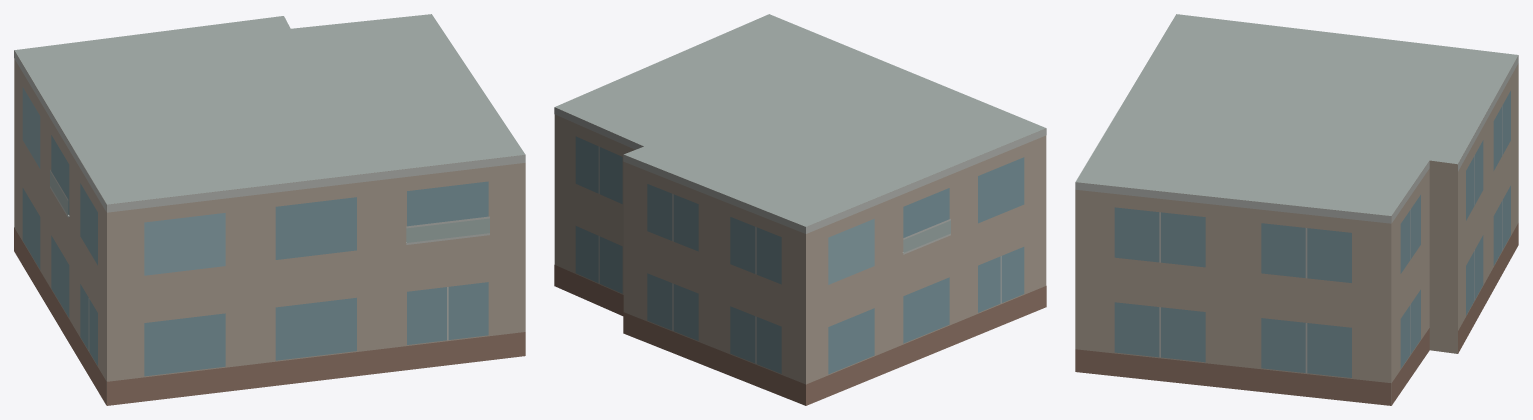
Rendered from survey-upis-32909372.glb.
The picture shows the model from 3 angles, left to right: view 1: azimuth 30°, elevation 25°; view 2: azimuth 150°, elevation 25°; view 3: azimuth 270°, elevation 25°; orthographic projection. The views are drawn at different scales.
Visible parts, largest first — view 1: survey-upis-32909372.tmp; view 2: survey-upis-32909372.tmp; view 3: survey-upis-32909372.tmp.
Part boxes in pixels (left/top/right/bottom): survey-upis-32909372.tmp: left=14, top=14, right=525, bottom=405; survey-upis-32909372.tmp: left=554, top=14, right=1046, bottom=405; survey-upis-32909372.tmp: left=1075, top=14, right=1518, bottom=405.
Bounding box in the file's own units: 13.94 × 6.1 × 12.92.
